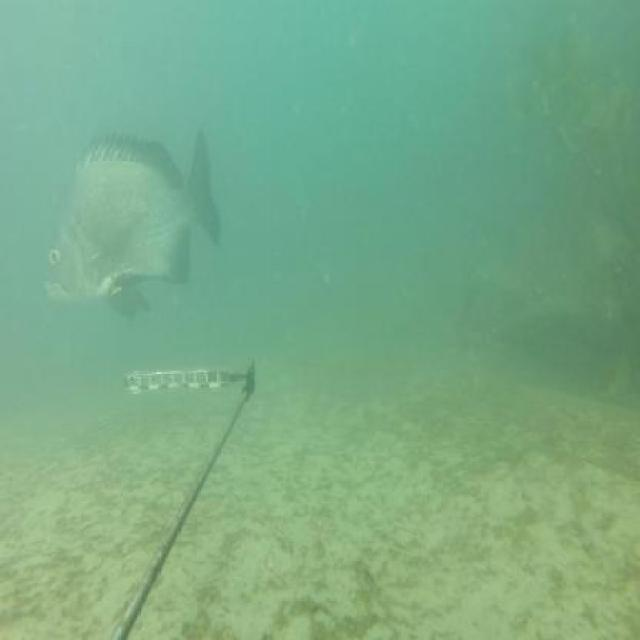acanthopagrus_palmaris: (41, 125, 222, 322)
